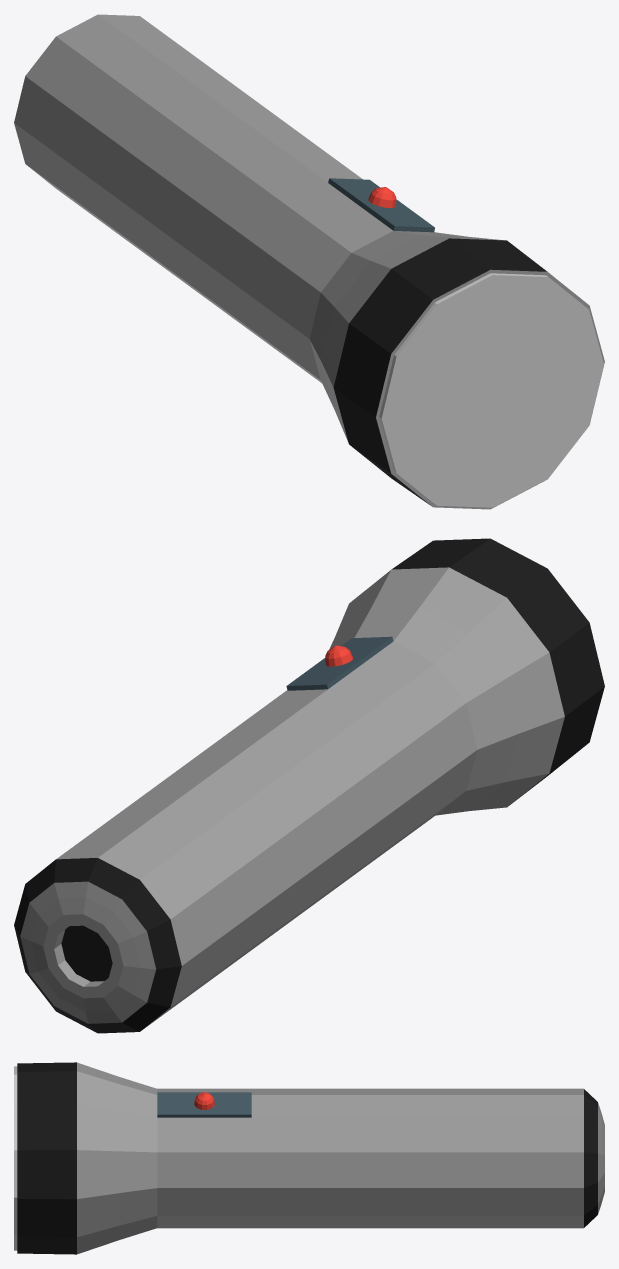
The model's file is Taschenlampe.fbx.
The picture shows the model from 3 angles, top to bottom: view 1: azimuth 30°, elevation 25°; view 2: azimuth 150°, elevation 25°; view 3: azimuth 270°, elevation 25°; orthographic projection. The views are drawn at different scales.
Parts seen in each view (by area): view 1: mesh_1604431704, mesh_1188622985, mesh_1258976145; view 2: mesh_1604431704, mesh_1258976145; view 3: mesh_1604431704, mesh_1258976145, mesh_1188622985, mesh_1216911956.
Part boxes in pixels (box(x1,y1,x2,y2)): mesh_1604431704: box(14, 14, 604, 509); mesh_1188622985: box(379, 273, 603, 507); mesh_1258976145: box(328, 178, 434, 232); mesh_1604431704: box(14, 538, 604, 1033); mesh_1258976145: box(286, 636, 393, 690); mesh_1604431704: box(17, 1062, 604, 1254); mesh_1258976145: box(157, 1092, 251, 1117); mesh_1188622985: box(14, 1066, 17, 1250); mesh_1216911956: box(194, 1092, 214, 1109).
Size of the model in its own units: 55.14 by 55.14 by 169.
